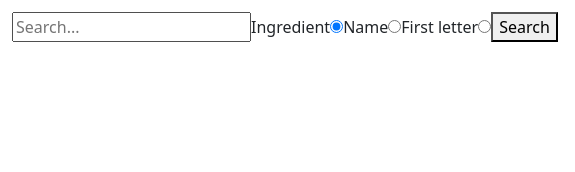
Scenario: SearchBar › deve realizar uma busca por ingrediente
The width and height of the screenshot is (575, 172).
Type "Chicken" into the field with test id "search-input" at (132, 27), box 12,12 -> 251,42
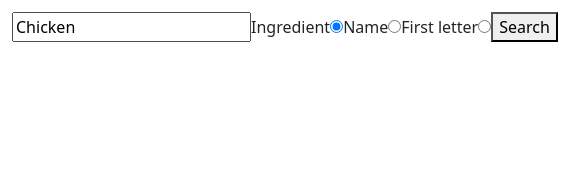
Click the button with test id "exec-search-btn" at (524, 27), box 491,12 -> 558,42
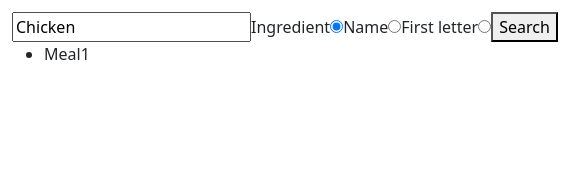
Result: the list item "Meal1" is shown at 44,43 -> 90,65
